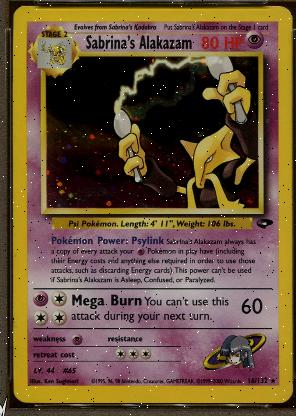Card: (10, 2, 294, 406)
